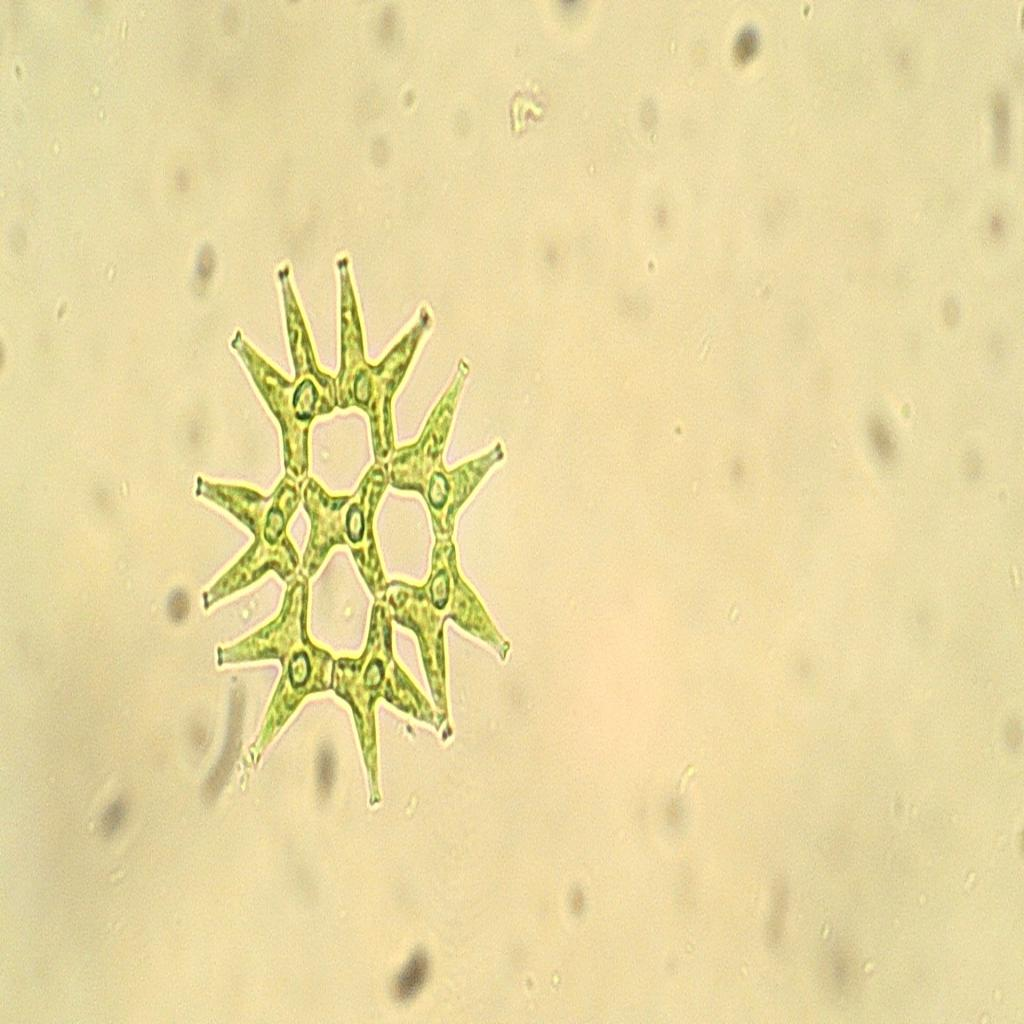Pediastrum_1T: (164, 235, 524, 828)
